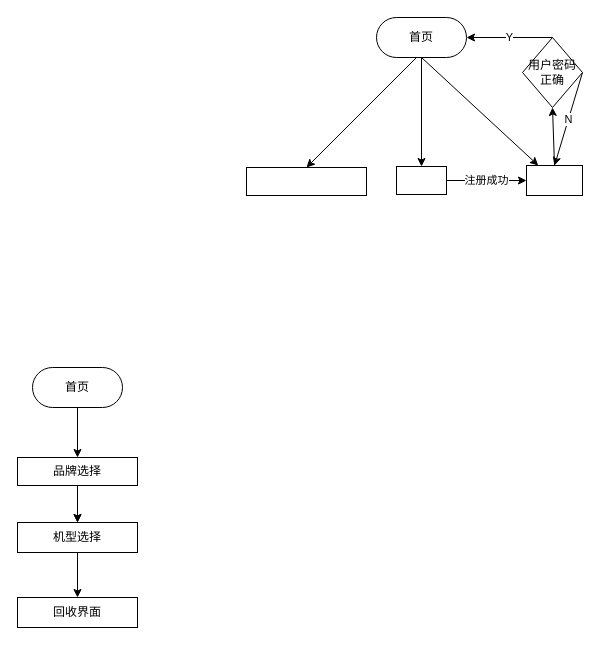
Some shapes in this 608 by 645 pixel diagram are drawn without their labels. Here are the shapes that lost their labels. From the top down, the centre of each, then its label:
At pixel 306 181: "信息浏览，机型选择".
At pixel 421 180: "注册".
At pixel 554 180: "登录".
